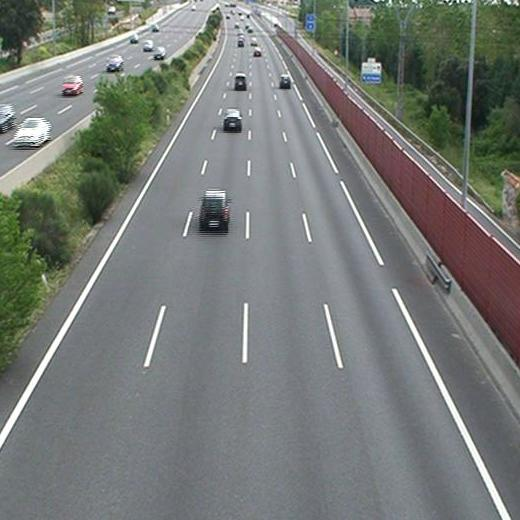car: (201, 191, 230, 226), (224, 108, 242, 128), (234, 74, 246, 88), (279, 74, 291, 85), (253, 48, 262, 55)
